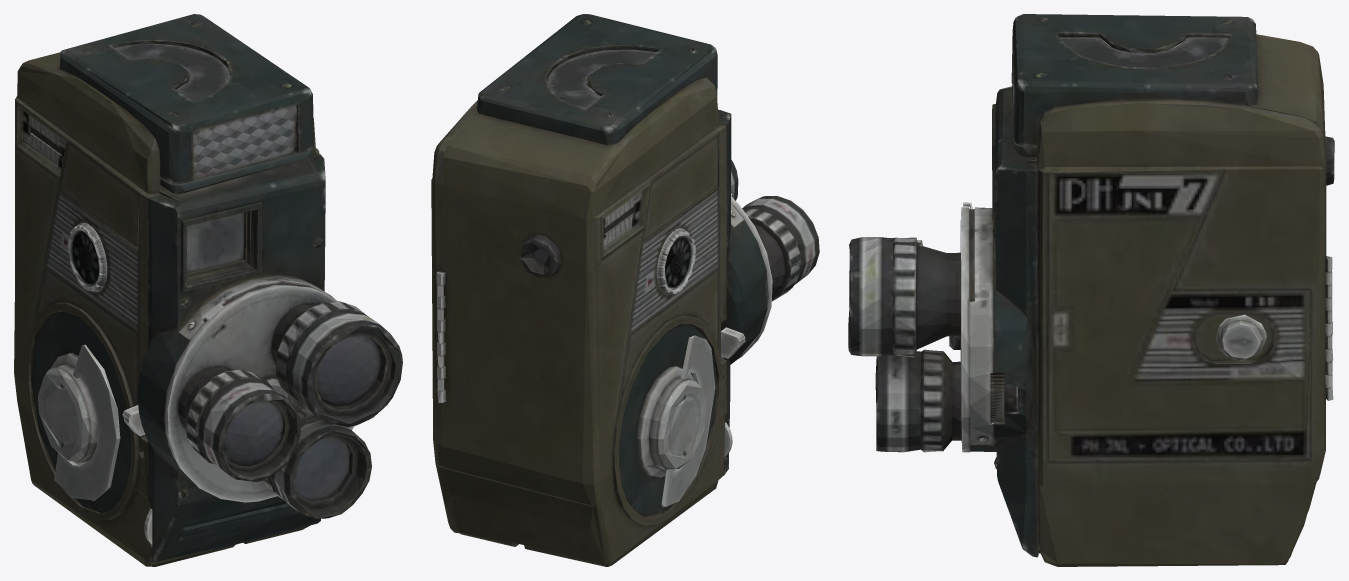
The model's file is vintage_video_camera.glb.
3 views of the same model, side by side, from view 1: azimuth 30°, elevation 25°; view 2: azimuth 150°, elevation 25°; view 3: azimuth 270°, elevation 25° (orthographic). The views are drawn at different scales.
Parts seen in each view (by area): view 1: vintage_video_camera; view 2: vintage_video_camera; view 3: vintage_video_camera.
Part boxes in pixels (<box>): vintage_video_camera: <box>14,14,402,566</box>; vintage_video_camera: <box>431,14,819,566</box>; vintage_video_camera: <box>848,14,1334,566</box>.
Bounding box in the file's own units: 0.0712 × 0.1448 × 0.1326.
Materials: 2 (2 with a texture image).
